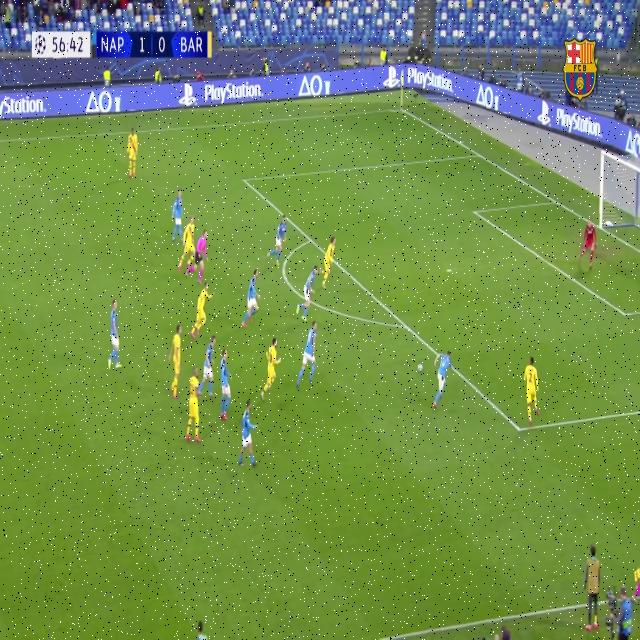Ball: (417, 365, 422, 374)
GoalKeeper: (578, 221, 598, 275)
TEAM 1: (186, 366, 203, 444), (168, 326, 185, 400), (192, 281, 214, 337), (523, 357, 540, 423), (179, 214, 196, 278), (264, 338, 282, 394), (320, 235, 336, 285), (126, 128, 138, 180)
TEAM 2: (295, 323, 320, 391), (431, 348, 454, 411), (240, 400, 259, 472), (198, 334, 216, 402), (300, 266, 322, 320), (218, 349, 233, 426), (244, 268, 262, 328), (109, 300, 123, 370), (171, 190, 186, 245), (274, 214, 290, 262)
